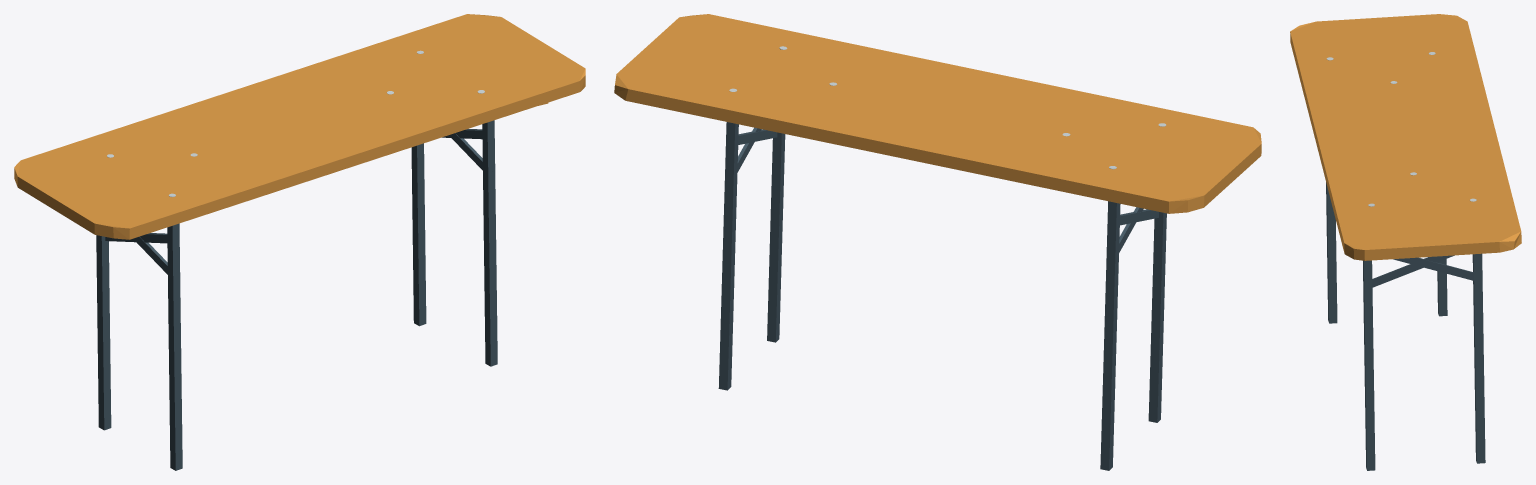
The model's file is beer-table-by-michael-k-sdorf-90Sf_tZUiM9.glb.
The picture shows the model from 3 angles, left to right: view 1: azimuth 30°, elevation 25°; view 2: azimuth 150°, elevation 25°; view 3: azimuth 270°, elevation 25°; orthographic projection. The views are drawn at different scales.
Visible parts, largest first — view 1: group1138035754, group452466937, group557829751; view 2: group1138035754, group452466937, group557829751; view 3: group1138035754, group557829751, group452466937.
Boxes of the visible parts, x1,y1,x2,y2 form: group1138035754: (14, 14, 585, 239); group452466937: (96, 223, 182, 470); group557829751: (411, 120, 497, 366); group1138035754: (614, 14, 1261, 213); group452466937: (1100, 201, 1166, 470); group557829751: (718, 122, 785, 390); group1138035754: (1290, 14, 1521, 260); group557829751: (1363, 253, 1485, 470); group452466937: (1326, 182, 1447, 323).
Size of the model in its own units: 2.44 by 1.26 by 0.9813.
